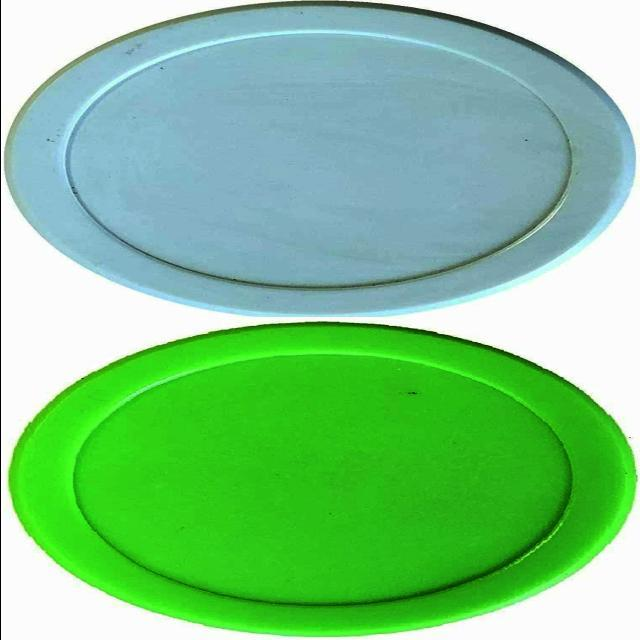chip: (4, 3, 638, 320), (6, 320, 636, 638)
